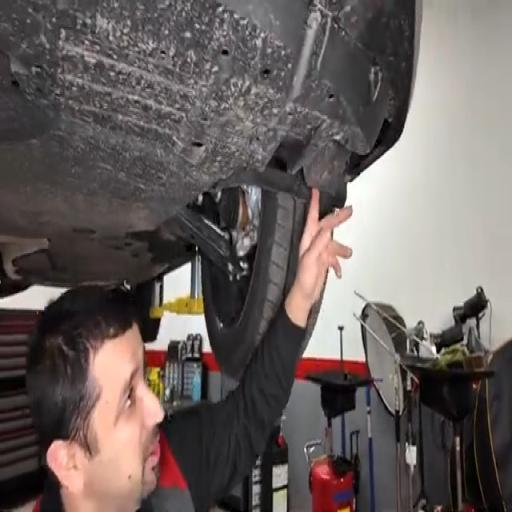tire: (202, 191, 307, 379), (202, 191, 295, 379), (285, 202, 308, 292), (134, 281, 159, 342)
wheel: (202, 191, 307, 379), (202, 191, 295, 379)
